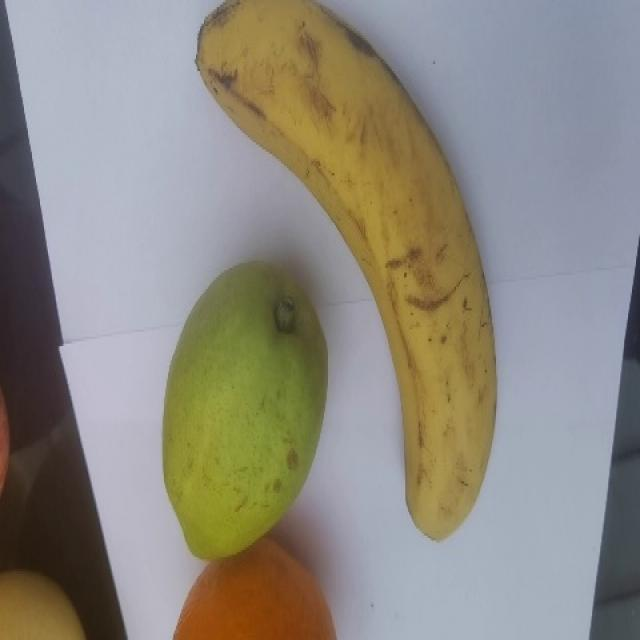Banana: (191, 0, 502, 546)
Orange: (167, 538, 337, 640)
